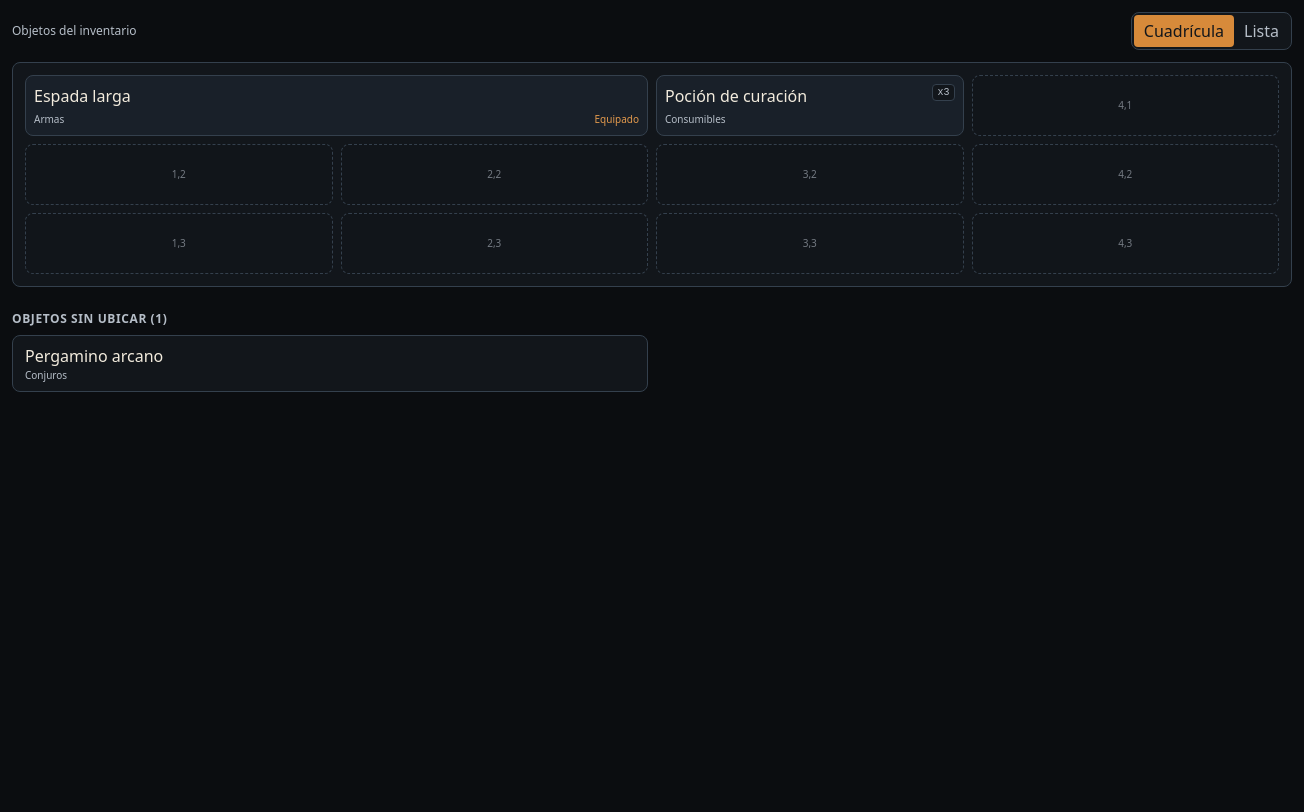
InventoryGrid — spatial presentation and fallback › handles destination rejection with textual reason when validateDestination fails
The width and height of the screenshot is (1304, 812).
Click the button "Espada larga Armas Equipado": (82, 96) [25,75,648,136]
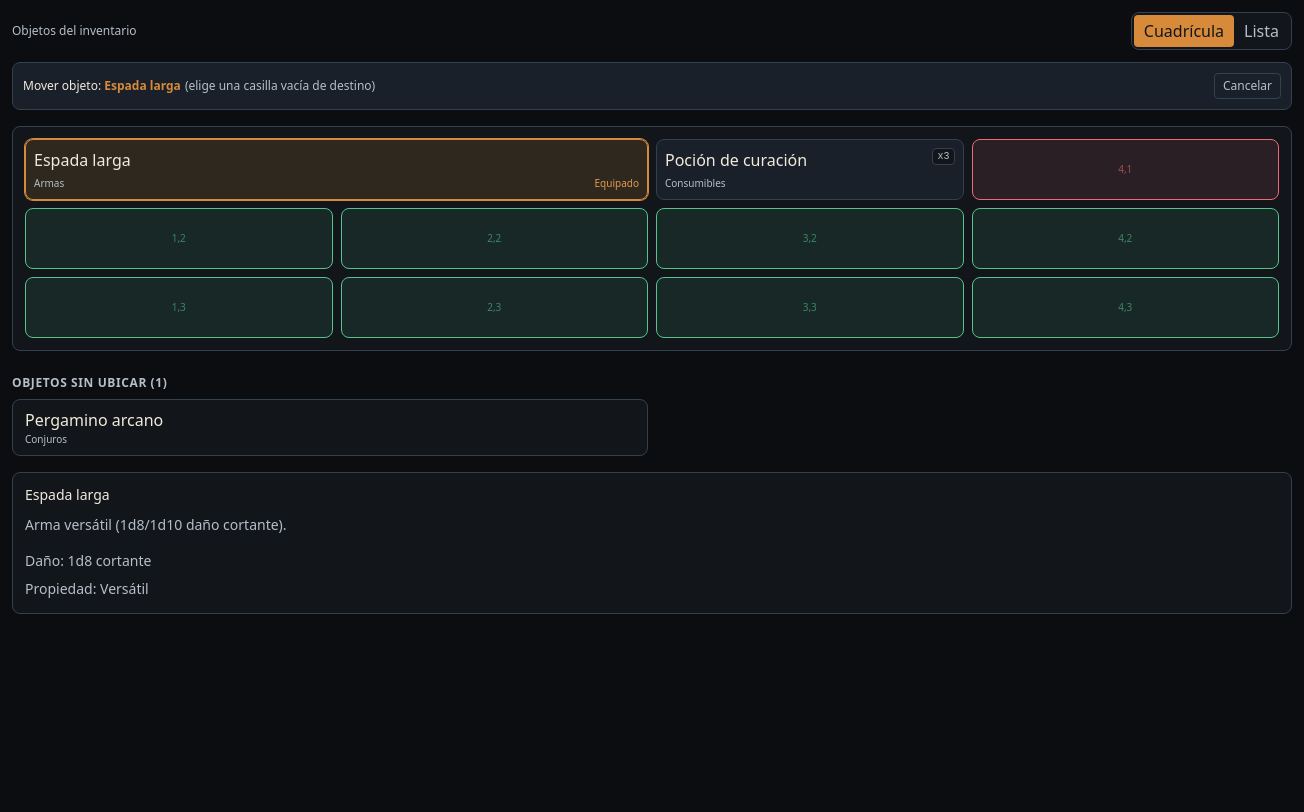
Expected: the button named "Casilla columna 4, fila 1: destino no válido (Espacio insuficiente para arma a dos manos)" is shown
Click the button named "Casilla columna 4, fila 1: destino no válido (Espacio insuficiente para arma a dos manos)": (1125, 170) [972,139,1279,200]
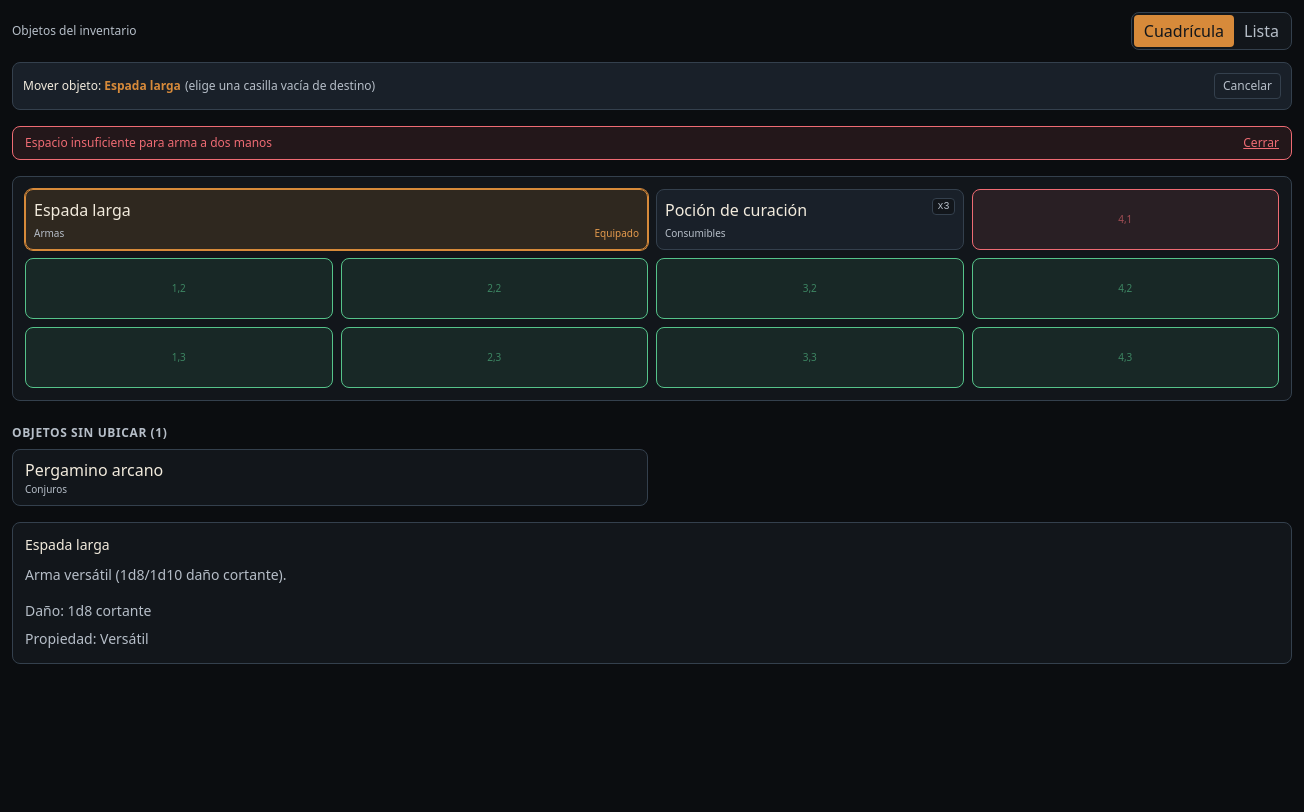
Expected: the message shows "Espacio insuficiente para arma a dos manos", [25,134,272,151]
